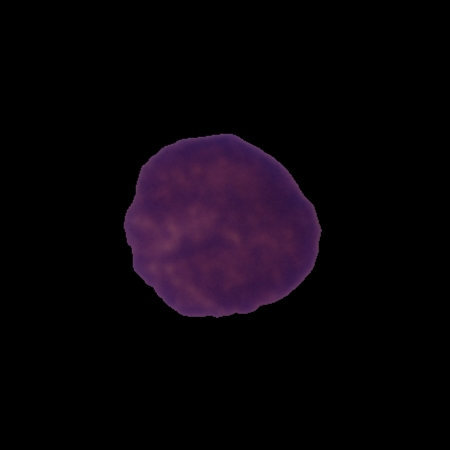HEM: (119, 130, 324, 322)
